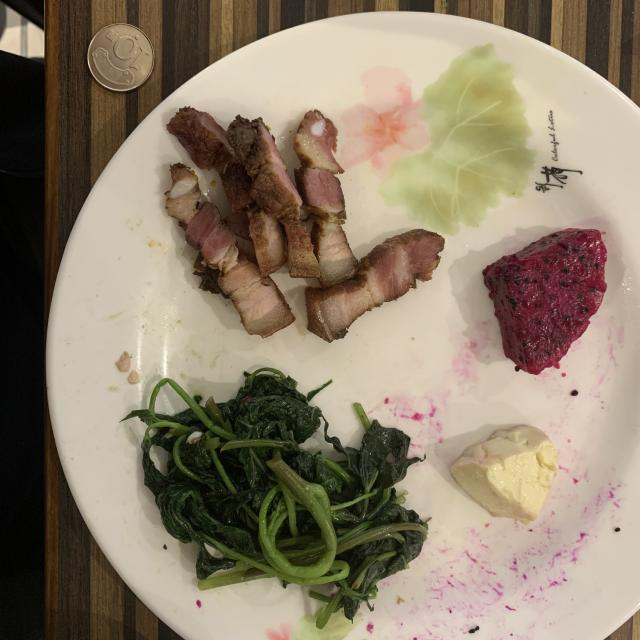coin: (88, 24, 154, 91)
grilled pork: (166, 108, 444, 341)
sweet potato leaves: (125, 368, 429, 628)
